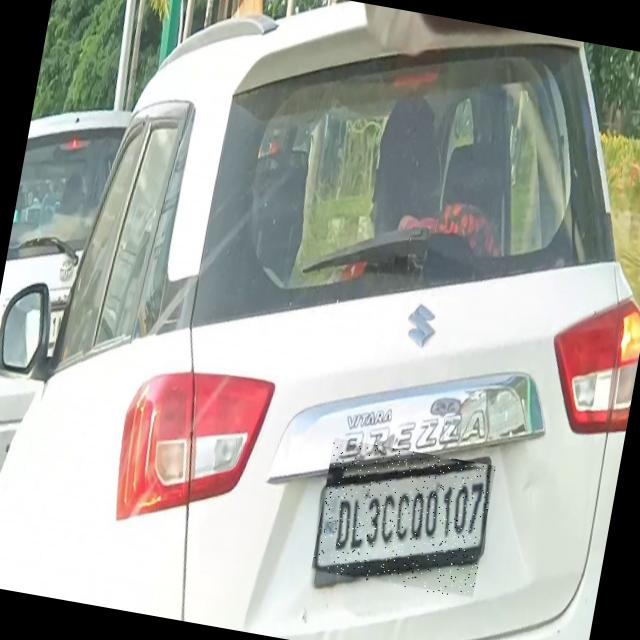Plate: (311, 439, 496, 601)
